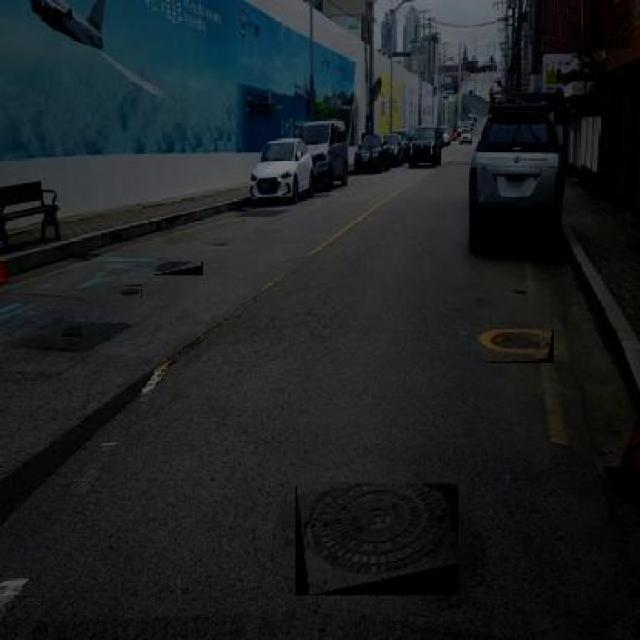Manhole: (296, 482, 458, 596), (486, 328, 554, 364), (154, 262, 203, 276), (118, 284, 142, 298), (60, 326, 82, 337)
Pothole: (511, 288, 528, 296), (213, 240, 230, 247)
